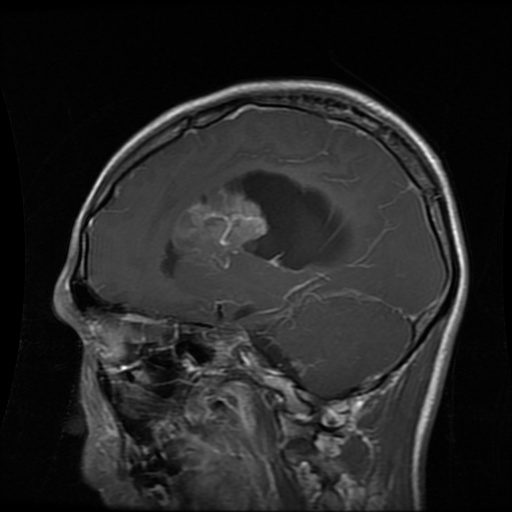glioma: (165, 168, 352, 281)
